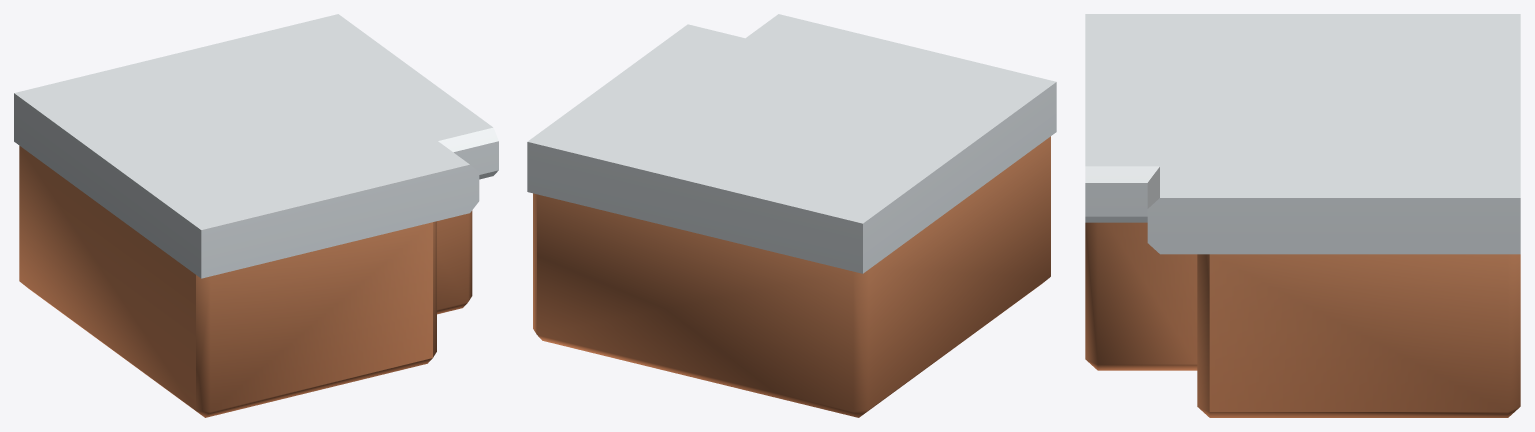
Rendered from Countertop Corner.glb.
3 renders of one model, left to right at view 1: azimuth 30°, elevation 25°; view 2: azimuth 150°, elevation 25°; view 3: azimuth 270°, elevation 25°, orthographic. The views are drawn at different scales.
Parts seen in each view (by area): view 1: countertop_corner_inner; view 2: countertop_corner_inner; view 3: countertop_corner_inner.
Boxes of the visible parts, x1,y1,x2,y2 form: countertop_corner_inner: [14, 14, 498, 417]; countertop_corner_inner: [527, 14, 1056, 417]; countertop_corner_inner: [1085, 14, 1520, 417].
Size of the model in its own units: 1.75 by 1 by 1.75.
1 material, 1 textured.
